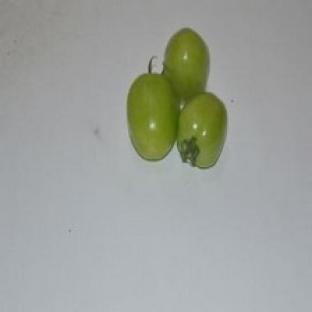Tomato: (127, 73, 178, 160), (177, 92, 227, 168), (163, 28, 210, 103)
